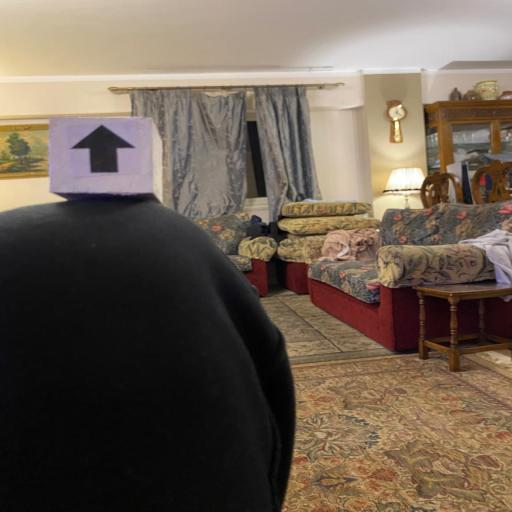Up: (47, 116, 162, 199)
